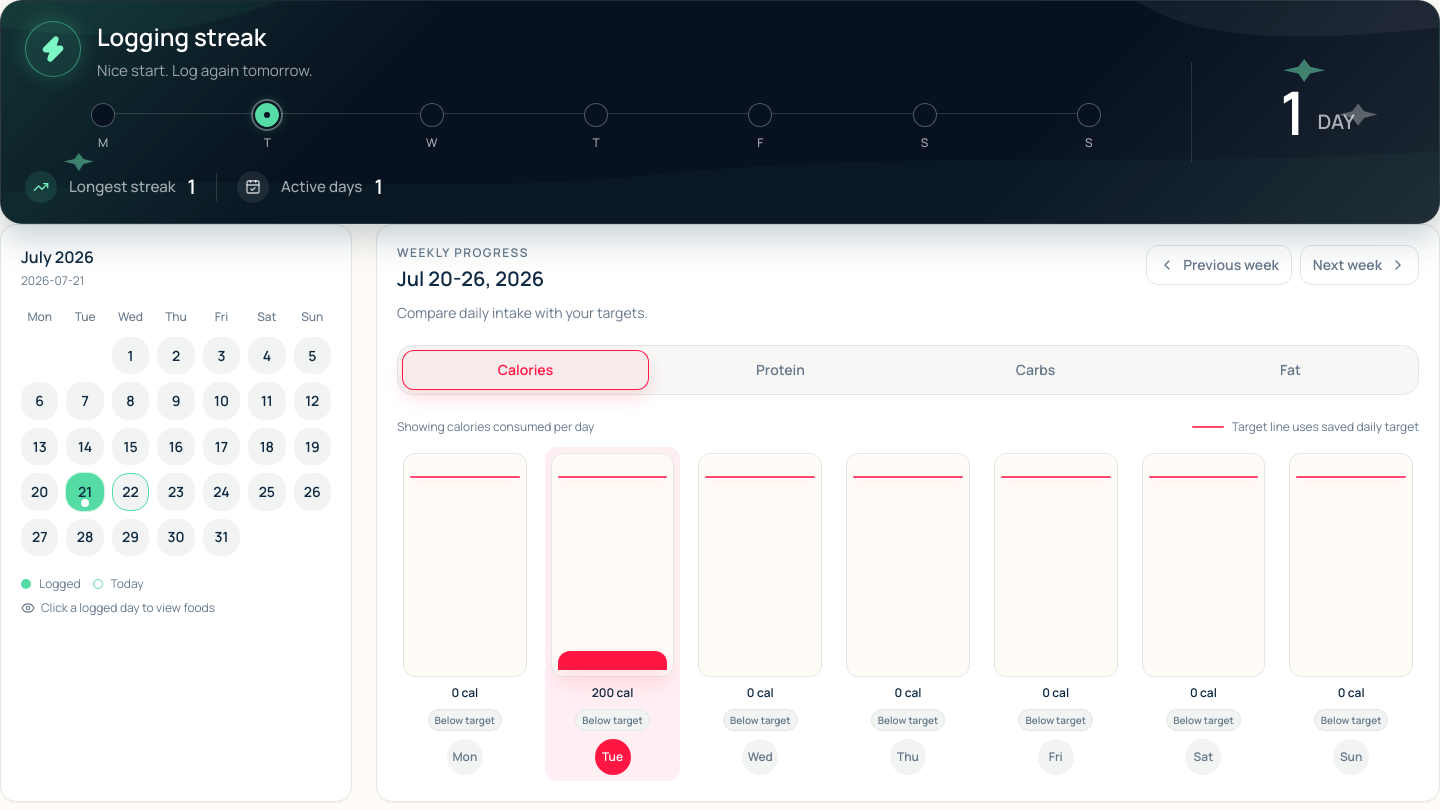
Test case: HistoryPageContent › opens the same day-details dialog from a weekly chart day
Step 1. Click the button with aria-label "Tue, 2026-07-21." → x=613, y=614, box x1=545 y1=447 x2=680 y2=781
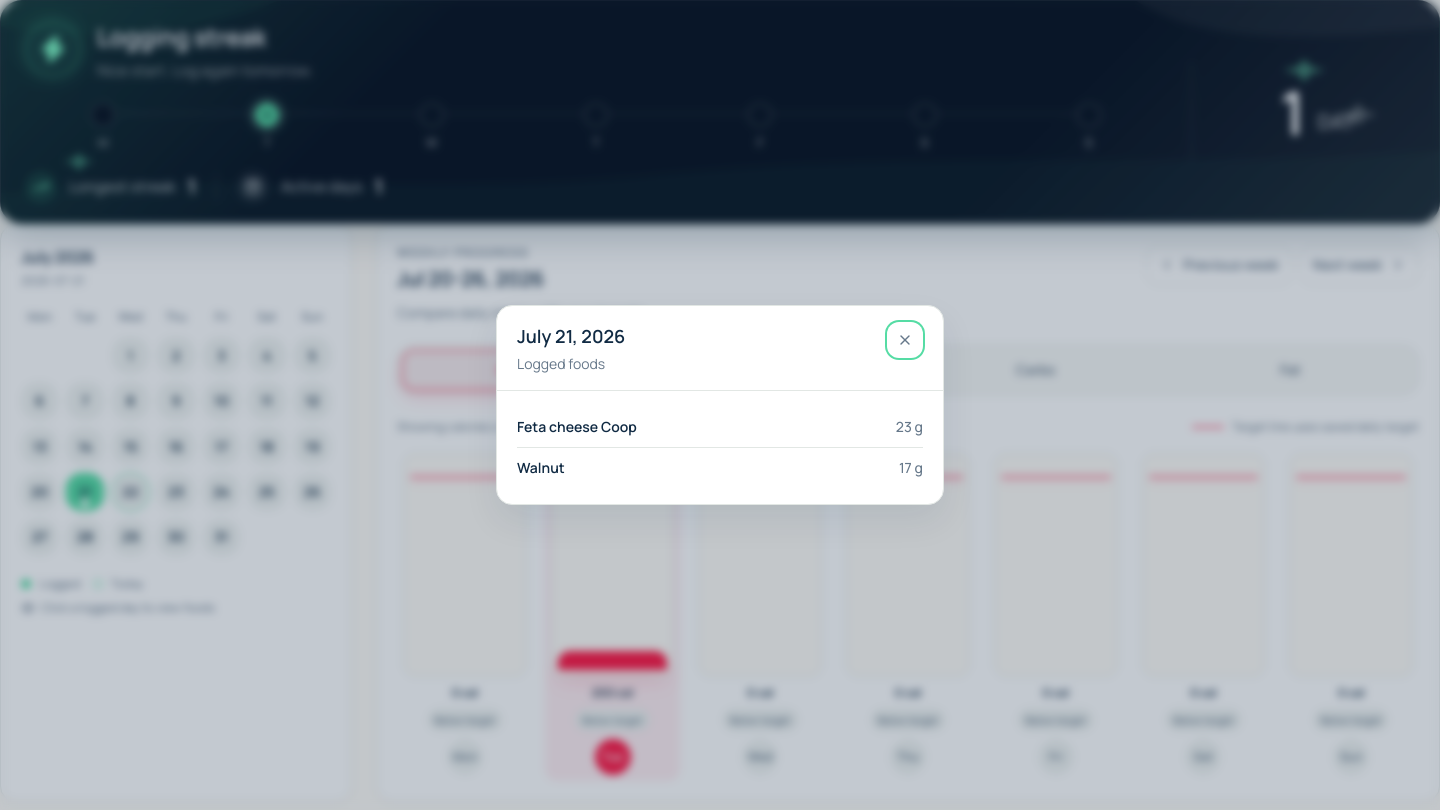
Expected: the dialog "July 21, 2026" is shown
